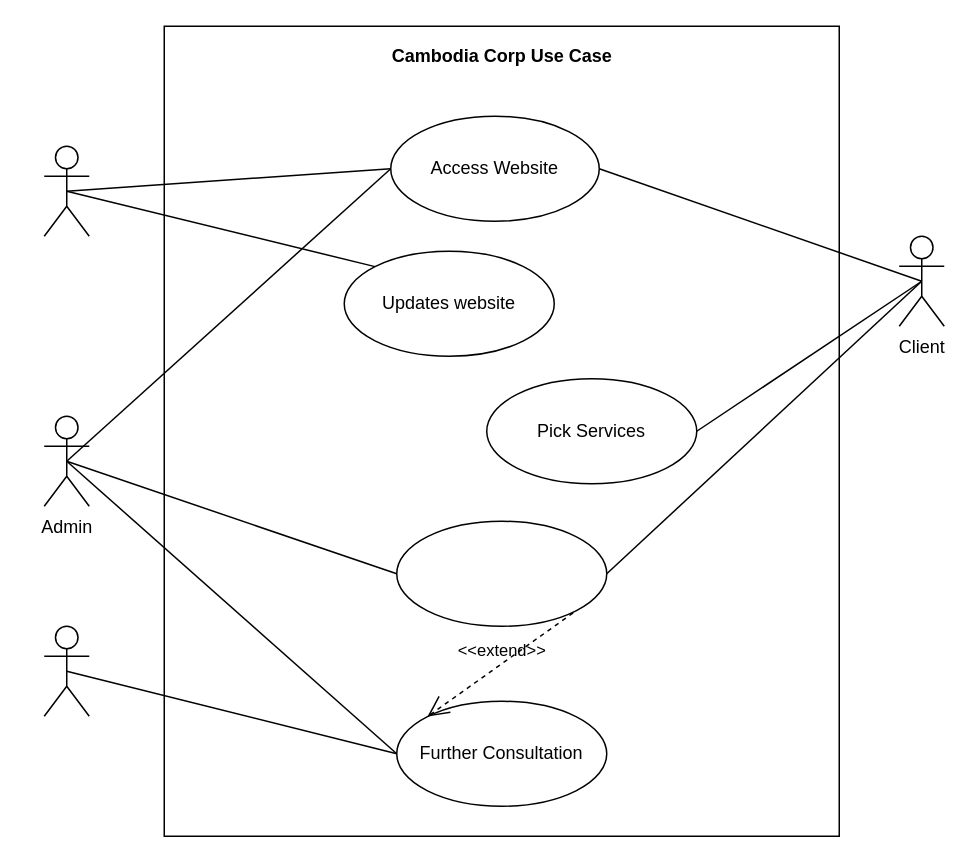
This 971x863 diagram has some shape labels left out. Each missing label, with the centre of its shape:
Consultation: (x=501, y=573)
Developer: (x=66, y=190)
Expert: (x=66, y=670)
